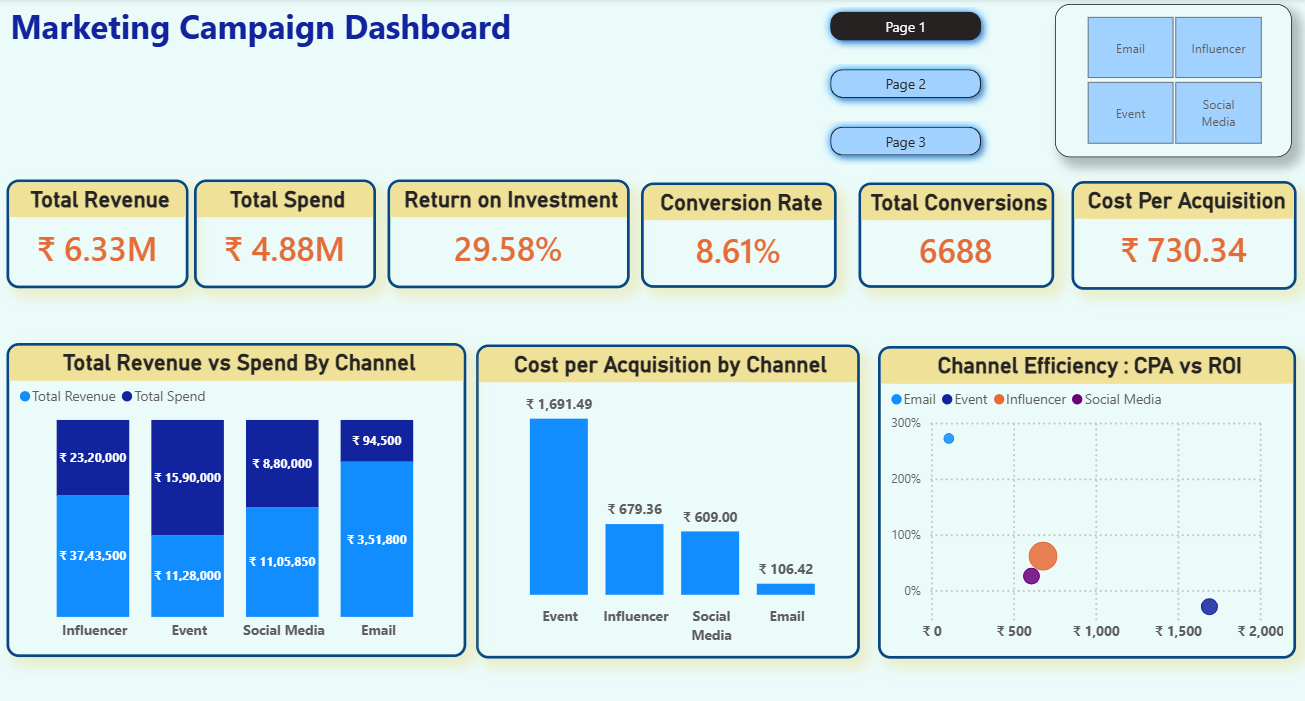

The dashboard page shown, as its layout file describes it:
{"tool":"powerbi","page":{"name":"Page 1","canvas":[1280,720],"ordinal":0},"visuals":[{"type":"cardVisual","title":"Total Revenue","fields":{"Data":["GlowUp_Campaigns (2).Total Revenue"]},"box":[10.2,176.3,177.2,106],"z":0},{"type":"cardVisual","title":"Total Spend","fields":{"Data":["GlowUp_Campaigns (2).Total Spend"]},"box":[193.4,176.3,177.2,106],"z":1000},{"type":"cardVisual","title":"Return on Investment","fields":{"Data":["GlowUp_Campaigns (2).ROI"]},"box":[381.2,176.3,236.2,106],"z":2000},{"type":"cardVisual","title":"Conversion Rate","fields":{"Data":["GlowUp_Campaigns (2).Conversion Rate"]},"box":[628,179.3,190.8,103],"z":3000},{"type":"cardVisual","title":"Total Conversions","fields":{"Data":["GlowUp_Campaigns (2).Total Conversions"]},"box":[840,179.3,190.8,103],"z":4000},{"type":"cardVisual","title":"Cost Per Acquisition","fields":{"Data":["GlowUp_Campaigns (2).Customer Acquisition Cost"]},"box":[1047.5,177.8,219.6,106],"z":5000},{"type":"clusteredColumnChart","title":"Cost per Acquisition  by Channel","fields":{"Category":["GlowUp_Campaigns (2).Channel"],"Y":["GlowUp_Campaigns (2).Customer Acquisition Cost"]},"box":[467.9,337.7,374,305.9],"z":6000},{"type":"pageNavigator","box":[803.8,4.4,165.1,159.3],"z":7000},{"type":"hundredPercentStackedColumnChart","title":"Total Revenue vs Spend By Channel","fields":{"Category":["GlowUp_Campaigns (2).Channel"],"Y":["GlowUp_Campaigns (2).Total Revenue","GlowUp_Campaigns (2).Total Spend"]},"box":[10.6,336.2,448.2,305.9],"z":8000},{"type":"textbox","box":[8.8,0,609.4,84.8],"z":9000},{"type":"scatterChart","title":"Channel Efficiency : CPA vs ROI","fields":{"Y":["GlowUp_Campaigns (2).ROI"],"Size":["GlowUp_Campaigns (2).Total Revenue"],"X":["GlowUp_Campaigns (2).Customer Acquisition Cost"],"Category":["GlowUp_Campaigns (2).Channel"],"Series":["GlowUp_Campaigns (2).Channel"]},"box":[860.1,339.2,407.3,304.4],"z":10000},{"type":"slicer","fields":{"Values":["GlowUp_Campaigns (2).Channel"]},"box":[1031.8,5.8,230.9,149.1],"z":11000}]}

Visuals, with their boxes on the page's 1280x720 design canvas (x1, y1, x2, y2). These are canvas units, not pixel positions in the 1305x701 screenshot, which may show the page scaled, cropped or inside an application window:
"Total Revenue" cardVisual: bbox=[10, 176, 187, 282]
"Total Spend" cardVisual: bbox=[193, 176, 371, 282]
"Return on Investment" cardVisual: bbox=[381, 176, 617, 282]
"Conversion Rate" cardVisual: bbox=[628, 179, 819, 282]
"Total Conversions" cardVisual: bbox=[840, 179, 1031, 282]
"Cost Per Acquisition" cardVisual: bbox=[1048, 178, 1267, 284]
"Cost per Acquisition  by Channel" clusteredColumnChart: bbox=[468, 338, 842, 644]
pageNavigator: bbox=[804, 4, 969, 164]
"Total Revenue vs Spend By Channel" hundredPercentStackedColumnChart: bbox=[11, 336, 459, 642]
textbox: bbox=[9, 0, 618, 85]
"Channel Efficiency : CPA vs ROI" scatterChart: bbox=[860, 339, 1267, 644]
slicer - GlowUp_Campaigns (2).Channel: bbox=[1032, 6, 1263, 155]
